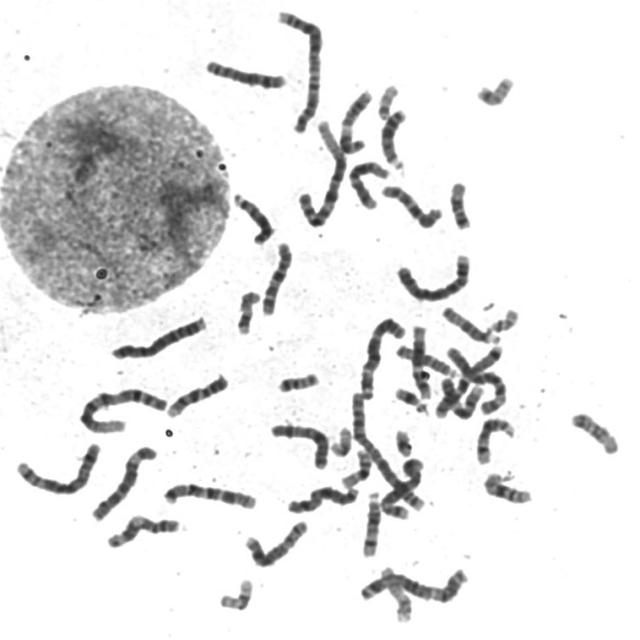A1: (292, 113, 350, 229), (75, 380, 171, 436)
A2: (346, 385, 427, 514), (272, 3, 326, 135)
A3: (354, 310, 410, 400), (355, 562, 471, 605)
B4: (106, 310, 210, 361), (392, 247, 474, 303)
B5: (11, 437, 104, 496), (376, 451, 429, 521)
C10: (376, 178, 446, 230), (257, 235, 296, 318)
C11: (102, 509, 184, 550), (335, 83, 376, 155)
C12: (344, 154, 394, 210), (406, 318, 434, 401)
C6: (86, 439, 160, 522), (438, 340, 508, 418)
C7: (429, 342, 506, 422), (159, 475, 260, 511)
C8: (240, 514, 312, 569), (200, 51, 291, 90)
C9: (164, 374, 234, 422), (434, 377, 490, 425)
D13: (228, 186, 277, 246), (376, 102, 411, 172)
D14: (472, 412, 518, 466), (357, 485, 384, 559)
D15: (438, 300, 503, 345), (391, 338, 461, 378)
E16: (479, 465, 536, 506), (337, 443, 375, 490)
E17: (378, 560, 416, 625), (232, 284, 264, 337)
E18: (567, 405, 623, 457), (445, 174, 474, 232)
F19: (214, 572, 256, 612), (325, 420, 355, 458)
F20: (472, 69, 518, 108), (274, 366, 322, 394)
G21: (390, 381, 431, 415), (390, 423, 415, 458)
G22: (372, 76, 402, 121), (483, 302, 522, 334)
X: (266, 417, 333, 471), (283, 479, 362, 515)
